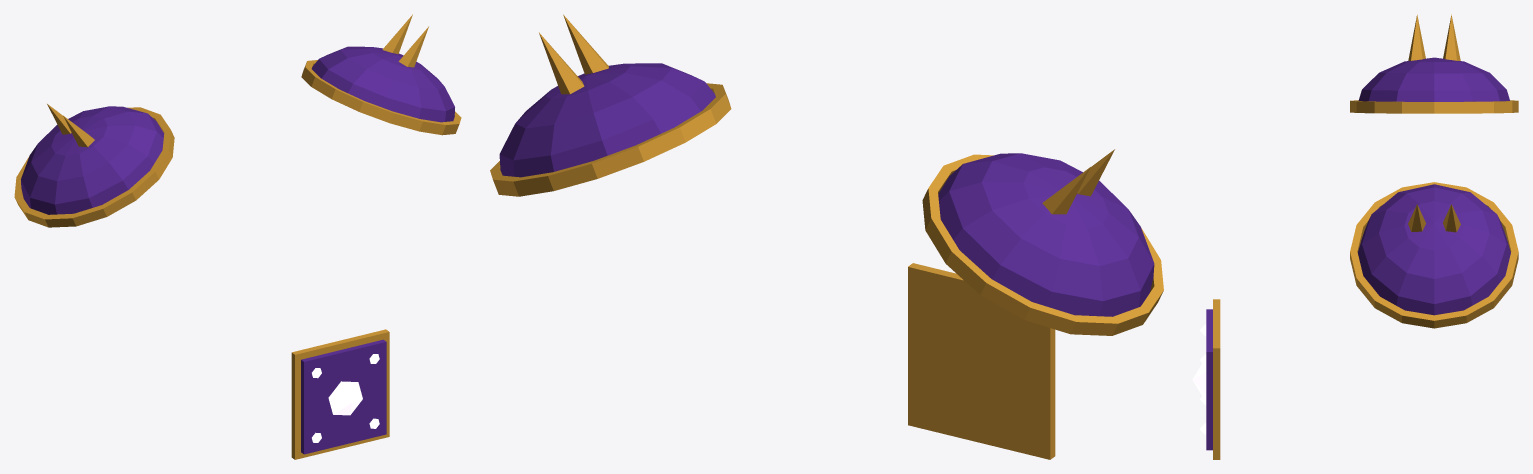
The model's file is armor_lord_chest_epic_orc.glb.
The picture shows the model from 3 angles, left to right: view 1: azimuth 30°, elevation 25°; view 2: azimuth 150°, elevation 25°; view 3: azimuth 270°, elevation 25°; orthographic projection. The views are drawn at different scales.
Visible parts, largest first — view 1: armor_lord_chest_epic_orc__clavicle_r, armor_lord_chest_epic_orc__spine_03, armor_lord_chest_epic_orc__clavicle_l; view 2: armor_lord_chest_epic_orc__clavicle_r, armor_lord_chest_epic_orc__spine_03, armor_lord_chest_epic_orc__clavicle_l; view 3: armor_lord_chest_epic_orc__clavicle_l, armor_lord_chest_epic_orc__clavicle_r, armor_lord_chest_epic_orc__spine_03.
Part boxes in pixels (x1,y1,x2,y2): armor_lord_chest_epic_orc__clavicle_r: (14, 104, 174, 227); armor_lord_chest_epic_orc__spine_03: (291, 329, 389, 459); armor_lord_chest_epic_orc__clavicle_l: (301, 14, 461, 135); armor_lord_chest_epic_orc__clavicle_r: (922, 149, 1163, 335); armor_lord_chest_epic_orc__spine_03: (908, 263, 1055, 459); armor_lord_chest_epic_orc__clavicle_l: (490, 14, 731, 196); armor_lord_chest_epic_orc__clavicle_l: (1350, 182, 1518, 328); armor_lord_chest_epic_orc__clavicle_r: (1350, 14, 1518, 113); armor_lord_chest_epic_orc__spine_03: (1192, 299, 1220, 459).
Bounding box in the file's own units: 71.45 × 49.17 × 44.52.
